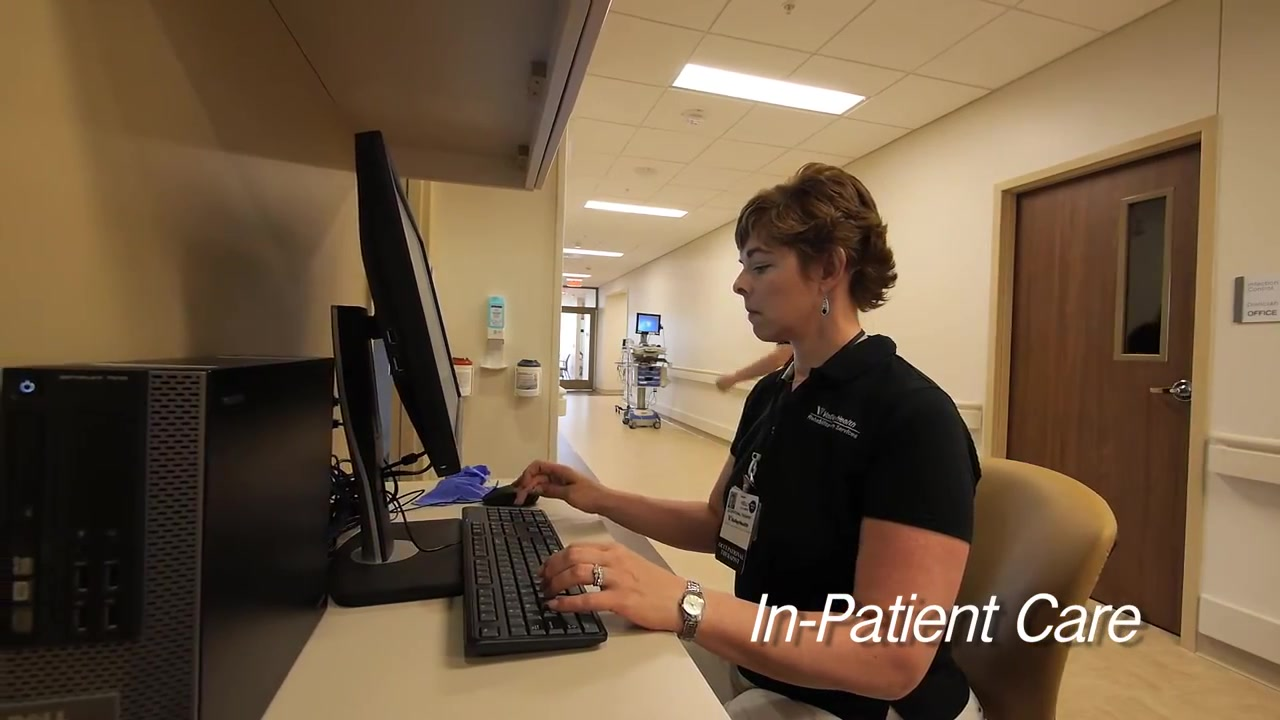chair: (950, 456, 1120, 720)
computer: (340, 130, 462, 581)
countertop: (265, 472, 740, 720)
dispenser: (487, 294, 506, 342)
door_handle: (1149, 378, 1192, 401)
hallway_assist_bar: (1205, 430, 1280, 485), (668, 366, 758, 390), (956, 402, 983, 430)
keyboard: (460, 505, 607, 657)
mouse: (482, 485, 540, 505)
staff: (509, 162, 984, 720)
